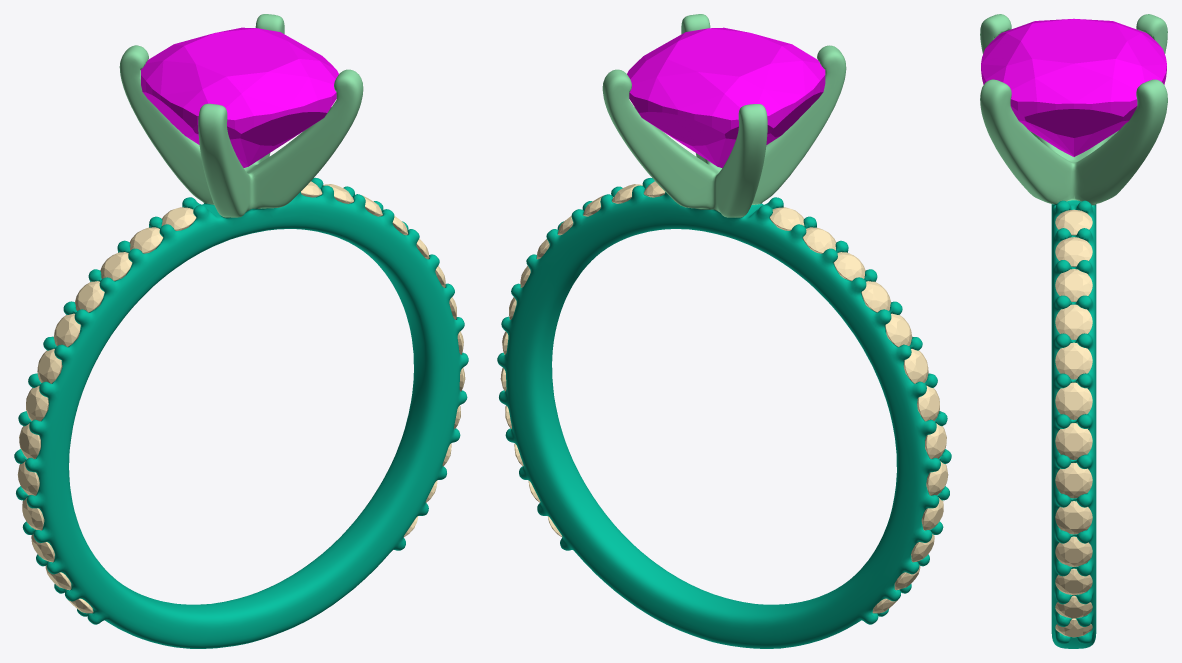
The model's file is BE1PD28R15_CU_200ct_RENDER.glb.
3 views of the same model, side by side, from view 1: azimuth 30°, elevation 25°; view 2: azimuth 150°, elevation 25°; view 3: azimuth 270°, elevation 25° (orthographic).
Parts seen in each view (by area): view 1: Metal 01, CS_Diamond_Cushion, Metal 02, Diamond_Round_Gem_SH.022, Diamond_Round_Gem_SH.023, Diamond_Round_Gem_SH.021, Diamond_Round_Gem_SH.020; view 2: Metal 01, CS_Diamond_Cushion, Metal 02, Diamond_Round_Gem_SH.022, Diamond_Round_Gem_SH.023, Diamond_Round_Gem_SH.021, Diamond_Round_Gem_SH.020; view 3: CS_Diamond_Cushion, Metal 02, Metal 01, Diamond_Round_Gem_SH.005, Diamond_Round_Gem_SH.006, Diamond_Round_Gem_SH.004, Diamond_Round_Gem_SH.007, Diamond_Round_Gem_SH.003, Diamond_Round_Gem_SH.008, Diamond_Round_Gem_SH.002, Diamond_Round_Gem_SH.009, Diamond_Round_Gem_SH.001 (+4 smaller).
Part boxes in pixels (x1,y1,x2,y2): Metal 01: [14, 177, 468, 648]; CS_Diamond_Cushion: [141, 27, 338, 167]; Metal 02: [119, 14, 363, 217]; Diamond_Round_Gem_SH.022: [75, 281, 104, 312]; Diamond_Round_Gem_SH.023: [100, 252, 132, 280]; Diamond_Round_Gem_SH.021: [53, 313, 80, 347]; Diamond_Round_Gem_SH.020: [37, 349, 62, 383]; Metal 01: [497, 178, 951, 648]; CS_Diamond_Cushion: [627, 27, 825, 167]; Metal 02: [602, 14, 846, 217]; Diamond_Round_Gem_SH.022: [861, 281, 890, 312]; Diamond_Round_Gem_SH.023: [833, 252, 865, 281]; Diamond_Round_Gem_SH.021: [885, 313, 912, 347]; Diamond_Round_Gem_SH.020: [903, 349, 928, 383]; CS_Diamond_Cushion: [981, 18, 1166, 156]; Metal 02: [980, 14, 1167, 205]; Metal 01: [1051, 200, 1096, 648]; Diamond_Round_Gem_SH.005: [1055, 382, 1092, 419]; Diamond_Round_Gem_SH.006: [1055, 423, 1092, 459]; Diamond_Round_Gem_SH.004: [1055, 342, 1092, 379]; Diamond_Round_Gem_SH.007: [1055, 463, 1092, 498]; Diamond_Round_Gem_SH.003: [1055, 304, 1092, 339]; Diamond_Round_Gem_SH.008: [1055, 501, 1092, 534]; Diamond_Round_Gem_SH.002: [1055, 269, 1092, 301]; Diamond_Round_Gem_SH.009: [1055, 536, 1092, 566]; Diamond_Round_Gem_SH.001: [1055, 237, 1092, 266].
Size of the model in its own units: 20.47 by 26.01 by 7.57.
